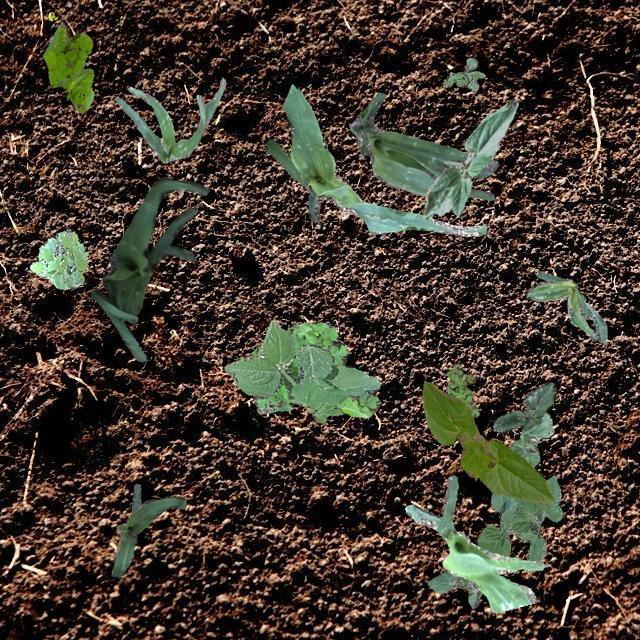crop: (264, 83, 486, 235), (90, 177, 206, 360), (404, 474, 546, 612), (422, 379, 552, 504), (348, 92, 498, 200), (422, 98, 516, 218), (114, 76, 224, 162), (476, 474, 562, 560), (110, 482, 184, 576), (526, 270, 606, 342), (492, 381, 556, 432), (508, 412, 552, 466), (426, 570, 482, 608)
weed: (222, 318, 378, 422), (250, 321, 380, 416), (42, 22, 94, 112), (28, 226, 88, 288), (444, 364, 478, 416), (442, 56, 484, 90)
